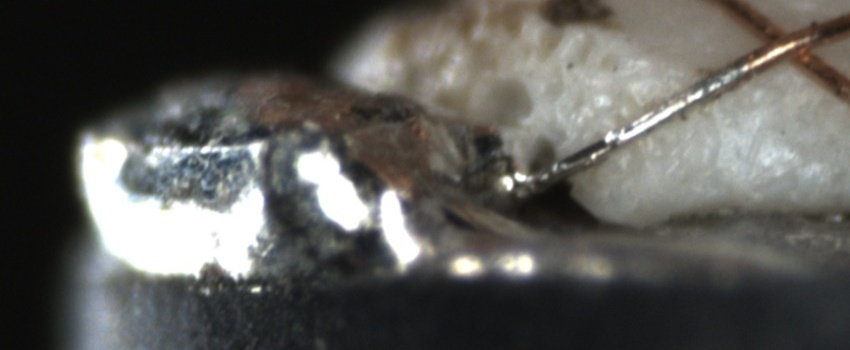CL: (746, 13, 833, 76)
TS: (529, 60, 750, 195)
